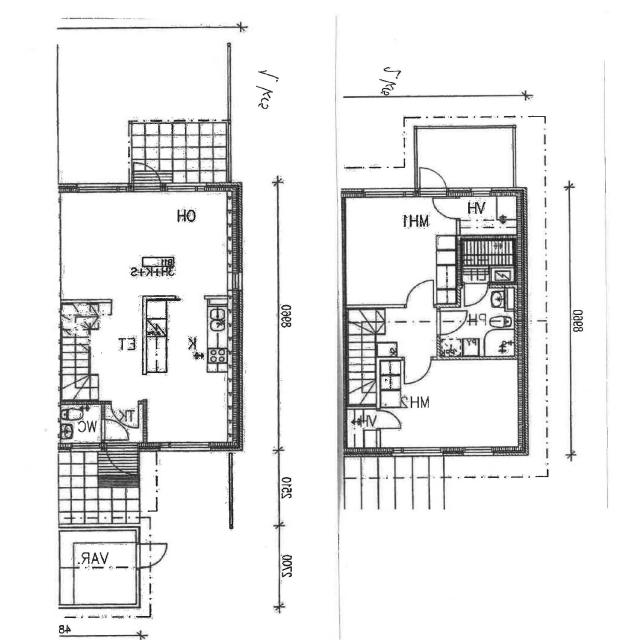door: (107, 442, 137, 479), (134, 158, 161, 192), (424, 161, 450, 194), (137, 544, 168, 568), (411, 275, 438, 302), (441, 305, 471, 329), (112, 401, 138, 428), (409, 349, 435, 376), (101, 419, 129, 440), (468, 277, 491, 300), (438, 195, 463, 214), (382, 403, 405, 421)
